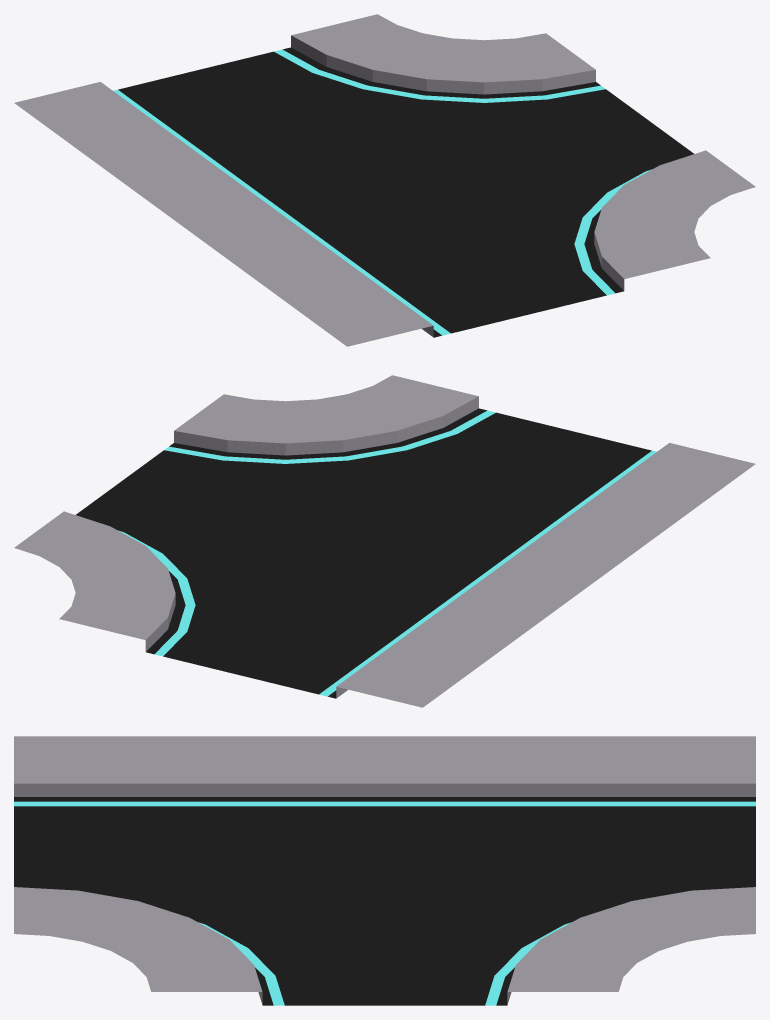
The model's file is 1-via-cruce-3m.fbx.
The picture shows the model from 3 angles, top to bottom: view 1: azimuth 30°, elevation 25°; view 2: azimuth 150°, elevation 25°; view 3: azimuth 270°, elevation 25°; orthographic projection. The views are drawn at different scales.
Visible parts, largest first — view 1: Model; view 2: Model; view 3: Model.
Part boxes in pixels (left/top/right/bottom): Model: left=14, top=14, right=755, bottom=346; Model: left=14, top=375, right=755, bottom=707; Model: left=14, top=736, right=755, bottom=1005.
Size of the model in its own units: 8.15 by 0.2 by 10.
